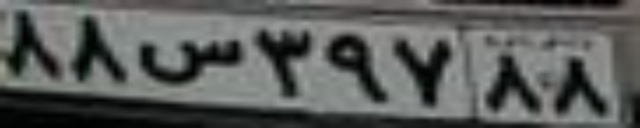3: (253, 26, 317, 97)
7: (392, 37, 451, 107)
8: (2, 8, 62, 82), (68, 13, 127, 84), (481, 52, 541, 114), (548, 56, 607, 117)
9: (323, 34, 389, 103)
sin: (134, 37, 244, 86)
